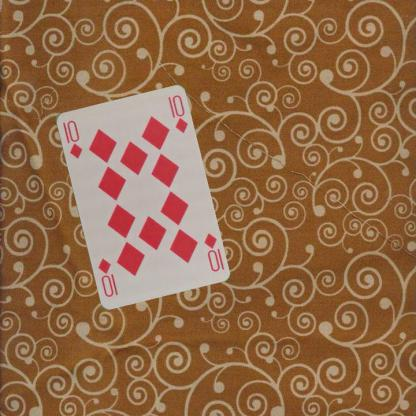10d: (201, 230, 221, 273), (64, 118, 83, 160)
